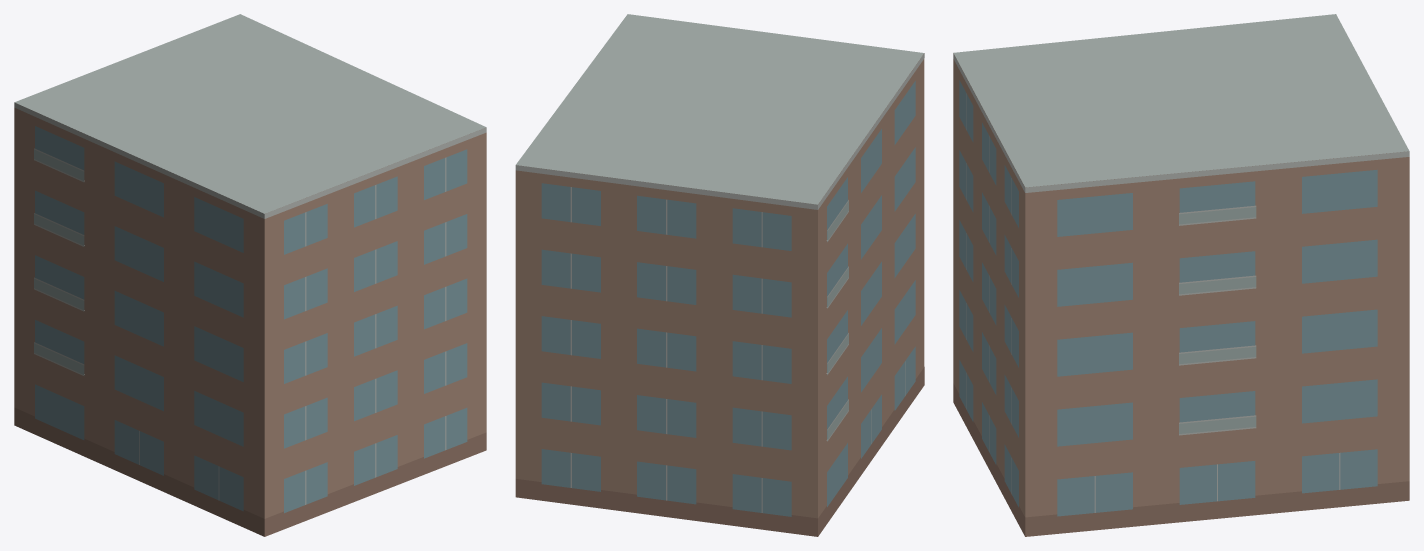
File: survey-upis-32862857.glb
The picture shows the model from 3 angles, left to right: view 1: azimuth 30°, elevation 25°; view 2: azimuth 150°, elevation 25°; view 3: azimuth 270°, elevation 25°; orthographic projection. The views are drawn at different scales.
Visible parts, largest first — view 1: survey-upis-32862857.tmp; view 2: survey-upis-32862857.tmp; view 3: survey-upis-32862857.tmp.
Part boxes in pixels (box(x1,y1,x2,y2)): survey-upis-32862857.tmp: box(14, 14, 486, 536); survey-upis-32862857.tmp: box(515, 14, 924, 536); survey-upis-32862857.tmp: box(953, 14, 1409, 536).
Size of the model in its own units: 16.25 by 15.25 by 18.06.
